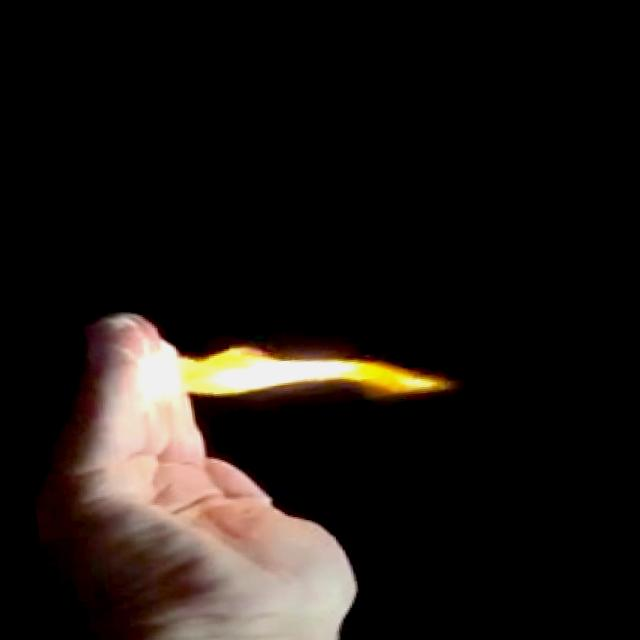Fire: (123, 327, 421, 412)
